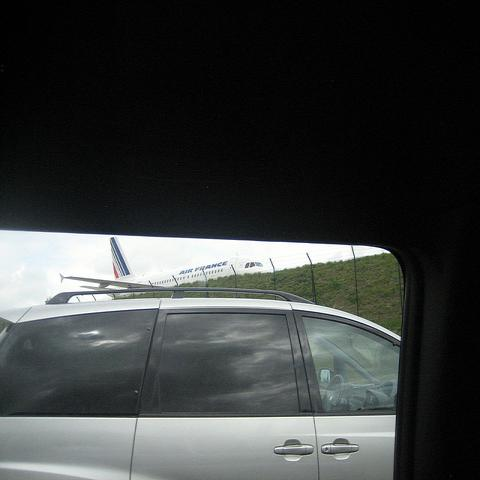car: (0, 292, 403, 476)
